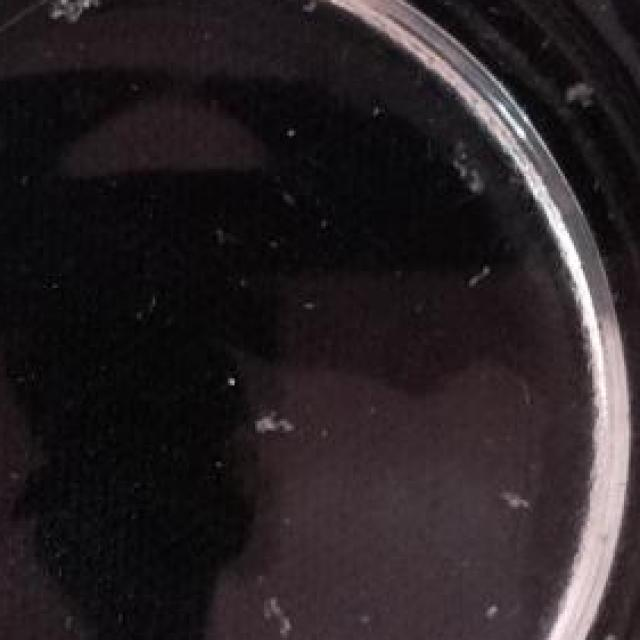Microplastic: (41, 0, 105, 50), (501, 476, 549, 526), (444, 140, 481, 198), (260, 402, 303, 447), (560, 74, 590, 119), (588, 611, 624, 640), (271, 597, 292, 640)
